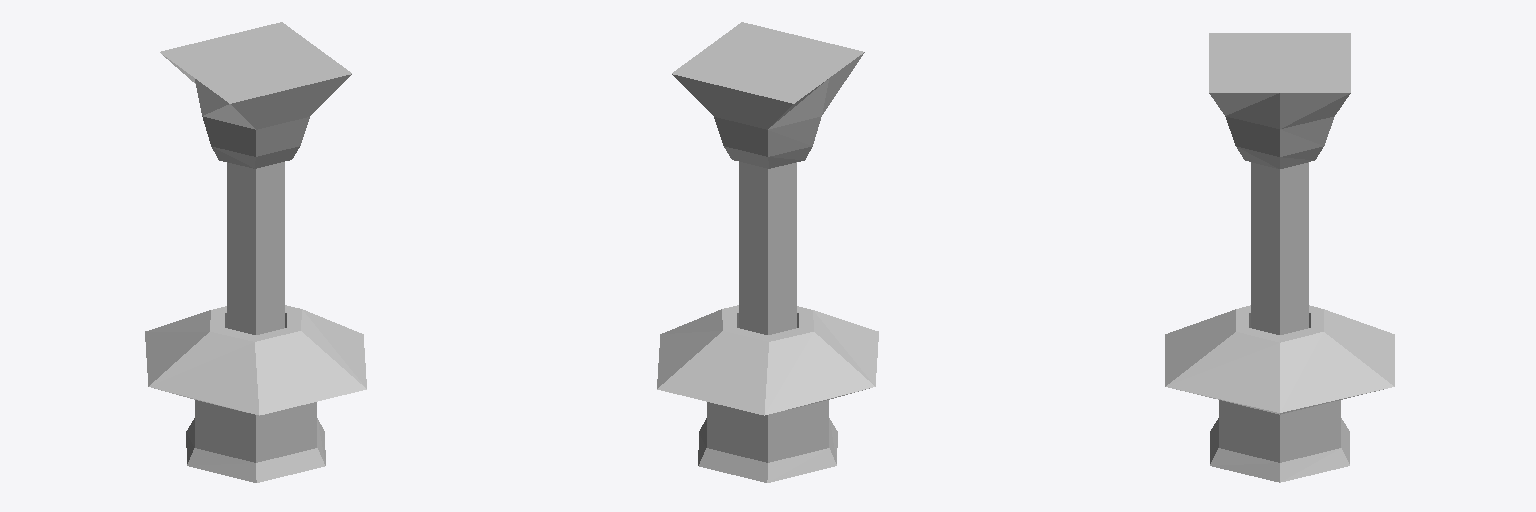
Rendered from junkconsole_1.obj.
3 renders of one model, left to right at view 1: azimuth 30°, elevation 25°; view 2: azimuth 150°, elevation 25°; view 3: azimuth 270°, elevation 25°, orthographic.
Visible parts, largest first — view 1: console, rotor_translucent; view 2: console, rotor_translucent; view 3: console, rotor_translucent.
Part boxes in pixels (left/top/right/bottom): console: left=145, top=22, right=366, bottom=482; rotor_translucent: left=227, top=162, right=284, bottom=334; console: left=657, top=22, right=878, bottom=482; rotor_translucent: left=739, top=162, right=796, bottom=334; console: left=1165, top=33, right=1394, bottom=482; rotor_translucent: left=1251, top=162, right=1308, bottom=334.
Bounding box in the file's own units: 1.75 × 3 × 1.62.